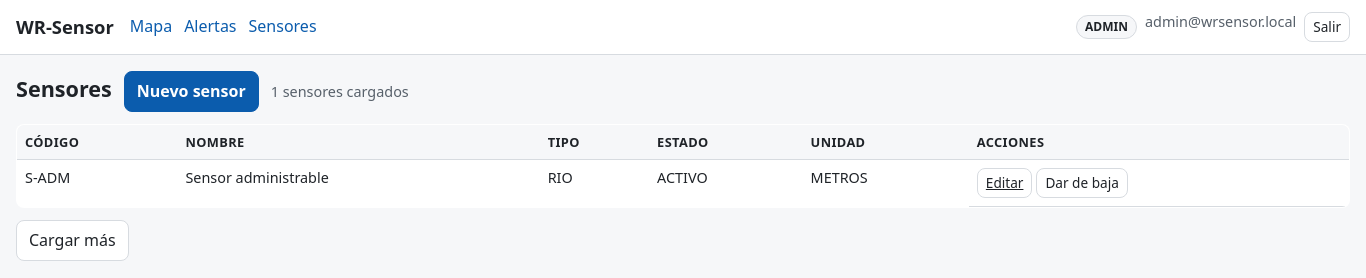
FEAT-0016 · listado y roles › AC-001/BR-008: la paginación keyset encadena el cursor
Expected: the table is shown, x1=16 y1=124 x2=1350 y2=208
What coordinates should you click on to do the following:
click the button "Cargar más"
I would click on:
 (72, 241)
Its box is x1=16 y1=220 x2=129 y2=261.
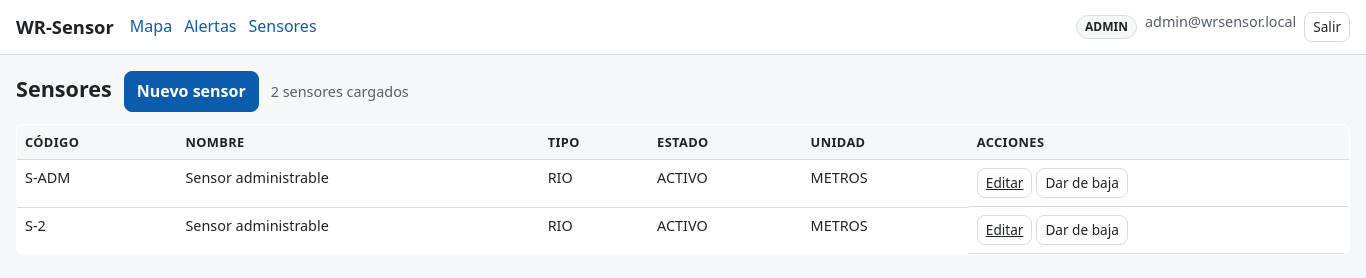
Now the text "S-2" is shown, box x1=16 y1=207 x2=177 y2=254
